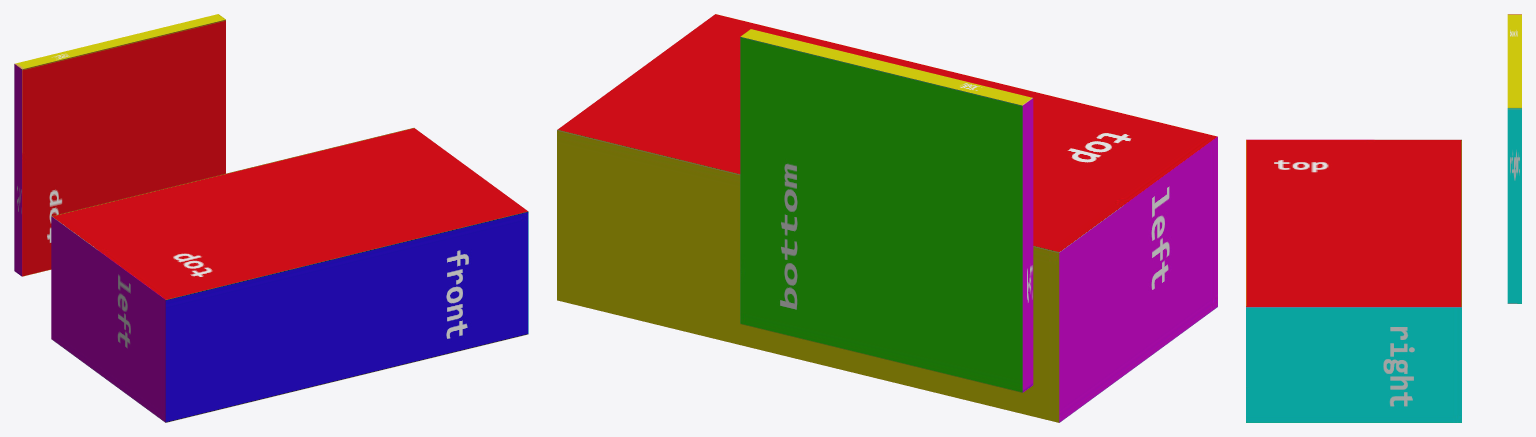
3 renders of one model, left to right at view 1: azimuth 30°, elevation 25°; view 2: azimuth 150°, elevation 25°; view 3: azimuth 270°, elevation 25°, orthographic. The views are drawn at different scales.
Parts seen in each view (by area): view 1: Cube_Baked; view 2: Cube_Baked; view 3: Cube_Baked.
Boxes of the visible parts, bbox=[...] form: Cube_Baked: bbox=[14, 14, 528, 422]; Cube_Baked: bbox=[557, 14, 1217, 422]; Cube_Baked: bbox=[1246, 14, 1521, 422].
Bounding box in the file's own units: 371 × 244 × 255.
Materials: 1 (1 with a texture image).
